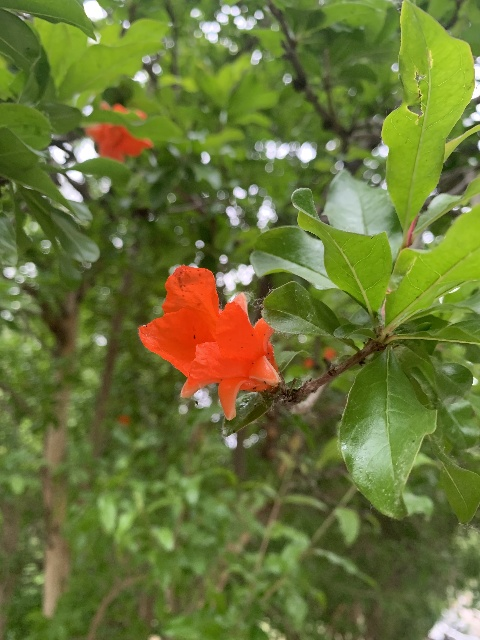flower: (137, 264, 278, 419), (83, 102, 152, 164)
